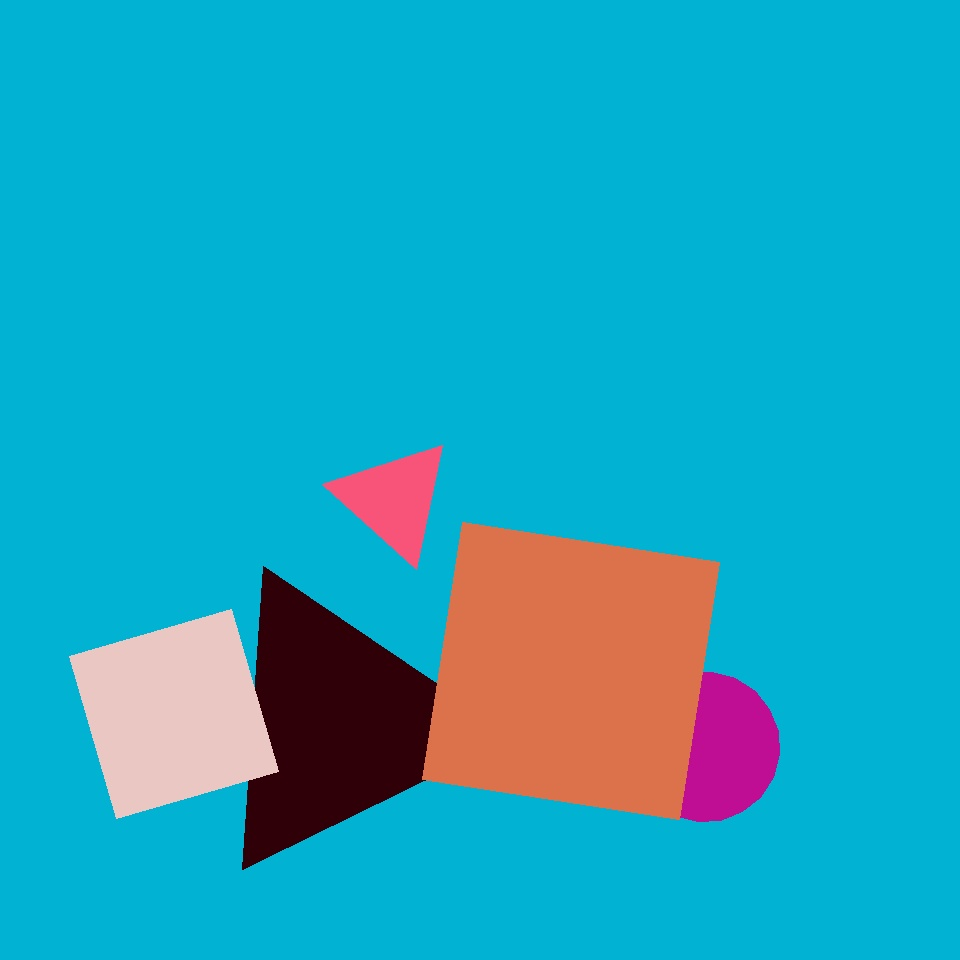circle: (624, 86, 904, 397), (204, 572, 476, 876), (283, 537, 577, 811), (334, 438, 454, 562), (631, 704, 716, 792)
square: (544, 433, 846, 734), (423, 522, 720, 820), (504, 229, 752, 477), (70, 610, 278, 818)
triangle: (550, 137, 844, 431), (366, 93, 629, 356), (630, 672, 780, 822)
